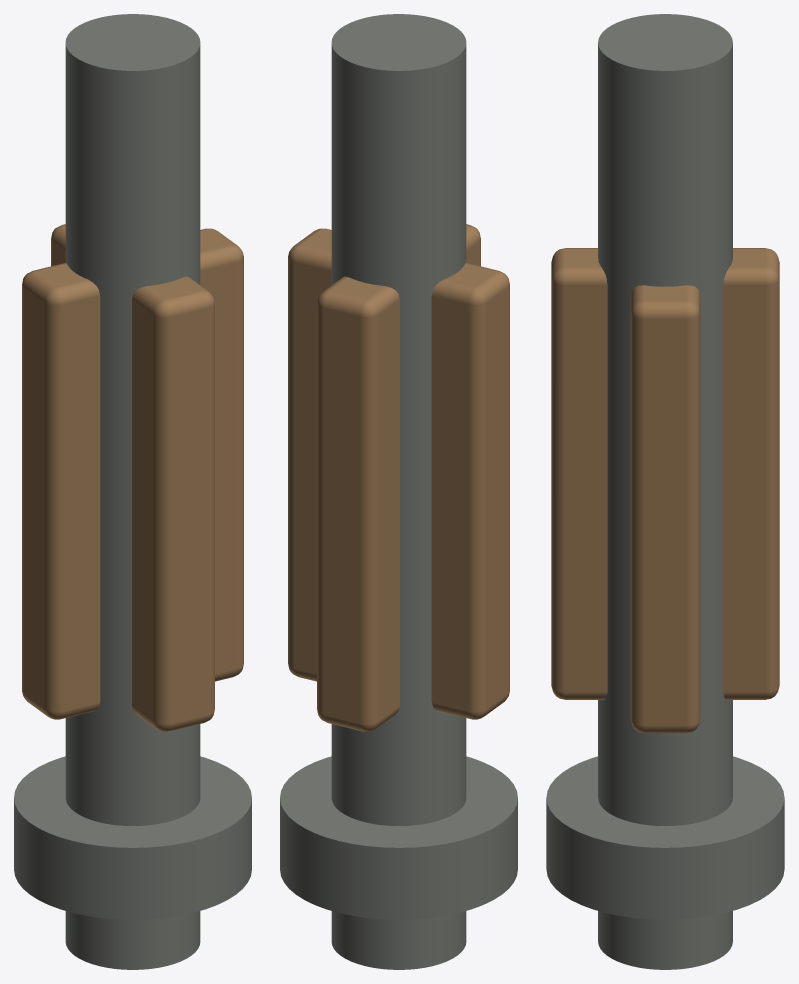
The model's file is damsel-spindle.glb.
The picture shows the model from 3 angles, left to right: view 1: azimuth 30°, elevation 25°; view 2: azimuth 150°, elevation 25°; view 3: azimuth 270°, elevation 25°; orthographic projection.
Visible parts, largest first — view 1: damsel-spindle; view 2: damsel-spindle; view 3: damsel-spindle.
Part boxes in pixels (<box>): damsel-spindle: <box>14,14,251,969</box>; damsel-spindle: <box>280,14,517,969</box>; damsel-spindle: <box>546,14,784,969</box>.
Size of the model in its own units: 0.12 by 0.5 by 0.12.
